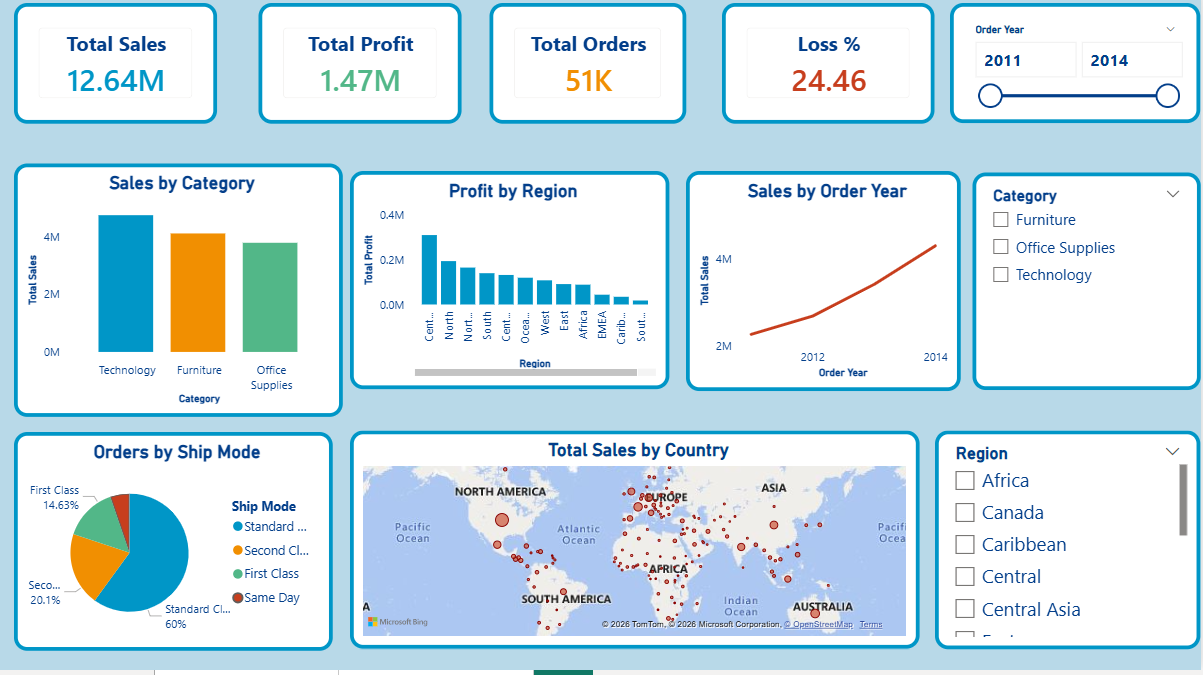

The dashboard page shown, as its layout file describes it:
{"tool":"powerbi","page":{"name":"Sales Overview","canvas":[1280,720],"ordinal":0},"visuals":[{"type":"cardVisual","fields":{"Data":["Global_Superstore_Final.Total Sales"]},"box":[22.7,13,215.4,127.9],"z":0},{"type":"cardVisual","fields":{"Data":["Global_Superstore_Final.Total Profit"]},"box":[281.7,13,215.4,127.9],"z":1000},{"type":"cardVisual","fields":{"Data":["Global_Superstore_Final.Total Orders"]},"box":[526.2,13,208.9,127.9],"z":2000},{"type":"cardVisual","fields":{"Data":["Global_Superstore_Final.Loss %"]},"box":[772.4,13,225.1,127.9],"z":3000},{"type":"columnChart","title":"Sales by Category","fields":{"Category":["Global_Superstore_Final.Category"],"Y":["Global_Superstore_Final.Total Sales"]},"box":[22.3,182.9,348.3,268.8],"z":4000},{"type":"columnChart","title":" Profit by Region","fields":{"Category":["Global_Superstore_Final.Region"],"Y":["Global_Superstore_Final.Total Profit"]},"box":[378.9,191.1,338.4,231.5],"z":5000},{"type":"lineChart","title":" Sales by Order Year","fields":{"Category":["Global_Superstore_Final.Order Year"],"Y":["Global_Superstore_Final.Total Sales"]},"box":[735.1,191.1,291.5,233.2],"z":6000},{"type":"pieChart","title":"Orders by Ship Mode","fields":{"Category":["Global_Superstore_Final.Ship Mode"],"Y":["Global_Superstore_Final.Total Orders"]},"box":[23,467,338,232],"z":7000},{"type":"slicer","fields":{"Values":["Global_Superstore_Final.Category"]},"box":[1038.7,192.5,241.8,230.6],"z":8000},{"type":"slicer","fields":{"Values":["Global_Superstore_Final.Region"]},"box":[998.9,466,281.5,232.2],"z":9000},{"type":"slicer","fields":{"Values":["Global_Superstore_Final.Order Year"]},"box":[1014.8,12.7,265.6,127.2],"z":10000},{"type":"map","fields":{"Category":["Global_Superstore_Final.Country"],"Size":["Global_Superstore_Final.Total Sales"]},"box":[378.9,466.3,604,231.5],"z":11000}]}

Visuals, with their boxes in screenshot pixels (x1, y1, x2, y2), scaled from the page's 1280x720 canvas onto the 1203x675 screenshot:
cardVisual - Global_Superstore_Final.Total Sales: box=[21, 12, 224, 132]
cardVisual - Global_Superstore_Final.Total Profit: box=[265, 12, 467, 132]
cardVisual - Global_Superstore_Final.Total Orders: box=[495, 12, 691, 132]
cardVisual - Global_Superstore_Final.Loss %: box=[726, 12, 937, 132]
"Sales by Category" columnChart: box=[21, 171, 348, 423]
" Profit by Region" columnChart: box=[356, 179, 674, 396]
" Sales by Order Year" lineChart: box=[691, 179, 965, 398]
"Orders by Ship Mode" pieChart: box=[22, 438, 339, 655]
slicer - Global_Superstore_Final.Category: box=[976, 180, 1202, 397]
slicer - Global_Superstore_Final.Region: box=[939, 437, 1202, 655]
slicer - Global_Superstore_Final.Order Year: box=[954, 12, 1202, 131]
map - Global_Superstore_Final.Country x Global_Superstore_Final.Total Sales: box=[356, 437, 924, 654]
